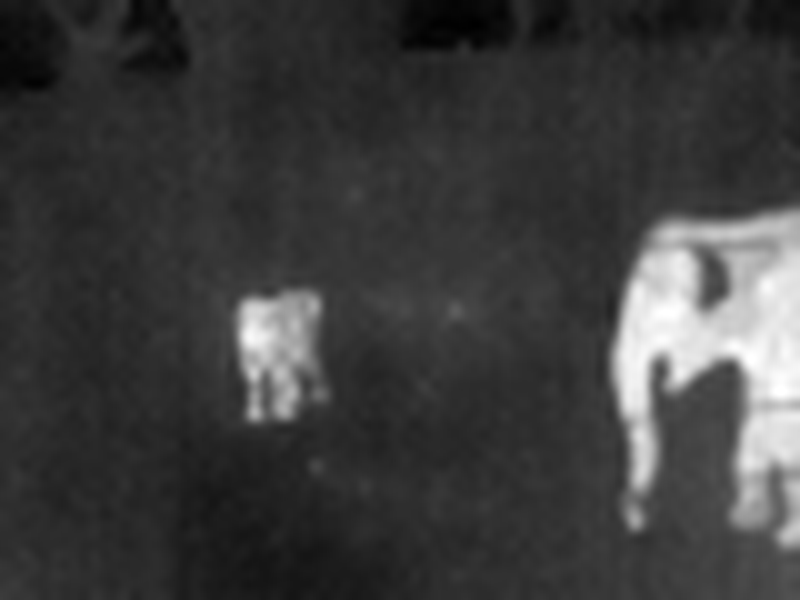elephant: (559, 188, 800, 572), (202, 300, 324, 427)
